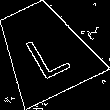L_NW: (16, 21, 72, 79)
